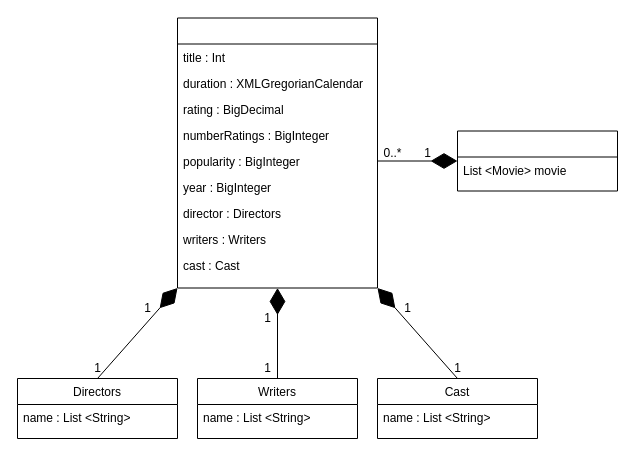
This 635x456 diagram has some shape labels left out. The box of each missing label's shape, as (x1, y1, x2, y2) in pixels:
Movie: (176, 17, 378, 288)
MovieCatalog: (456, 130, 618, 191)
